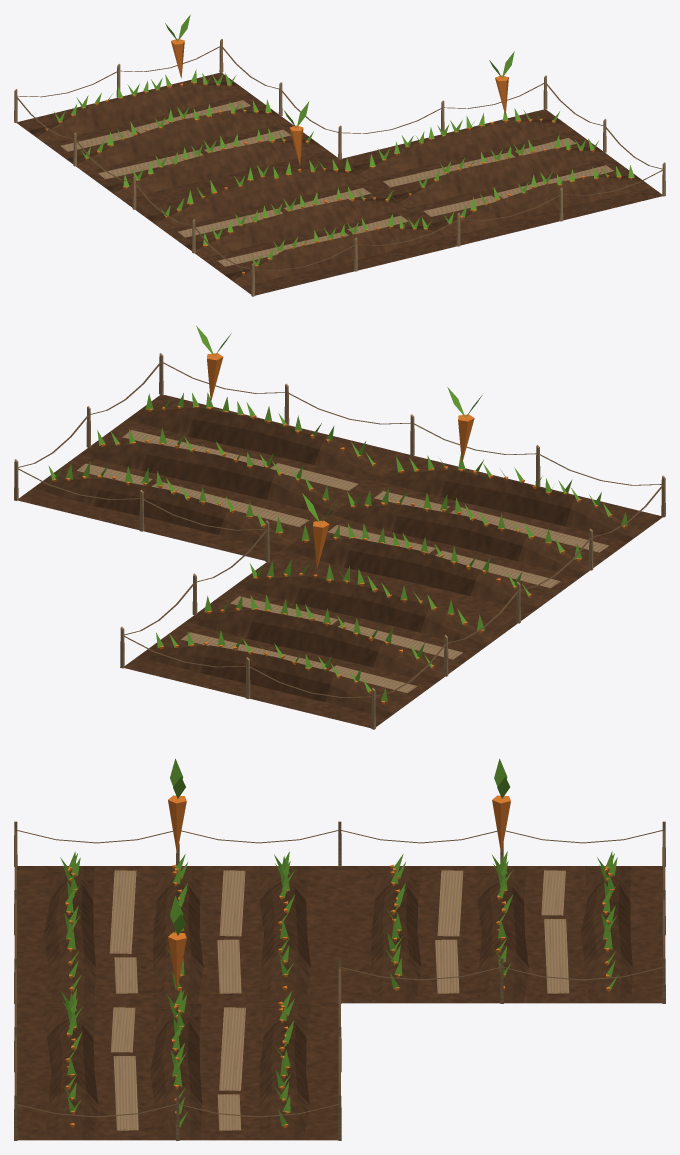
Rendered from example-L_LOD1.glb.
3 views of the same model, one above another, from view 1: azimuth 30°, elevation 25°; view 2: azimuth 150°, elevation 25°; view 3: azimuth 270°, elevation 25° (orthographic). The views are drawn at different scales.
Visible parts, largest first — view 1: sol_024_LOD1, sol_000_LOD1, sol_012_LOD1, butte_027_LOD1, butte_017_LOD1, butte_005_LOD1, butte_015_LOD1, butte_029_LOD1, butte_001_LOD1, butte_003_LOD1, butte_025_LOD1, butte_013_LOD1 (+22 smaller); view 2: sol_024_LOD1, sol_012_LOD1, sol_000_LOD1, butte_025_LOD1, butte_015_LOD1, butte_001_LOD1, butte_027_LOD1, butte_005_LOD1, butte_013_LOD1, butte_017_LOD1, butte_003_LOD1, butte_029_LOD1 (+22 smaller); view 3: sol_012_LOD1, sol_000_LOD1, sol_024_LOD1, butte_005_LOD1, butte_025_LOD1, butte_015_LOD1, butte_029_LOD1, butte_013_LOD1, butte_017_LOD1, butte_001_LOD1, butte_027_LOD1, butte_003_LOD1 (+23 smaller).
Part boxes in pixels (left/top/right/bottom): sol_024_LOD1: left=341, top=109, right=662, bottom=245; sol_000_LOD1: left=135, top=159, right=456, bottom=295; sol_012_LOD1: left=17, top=72, right=338, bottom=208; butte_027_LOD1: left=392, top=147, right=610, bottom=208; butte_017_LOD1: left=29, top=82, right=247, bottom=143; butte_005_LOD1: left=146, top=168, right=368, bottom=230; butte_015_LOD1: left=67, top=110, right=288, bottom=171; butte_029_LOD1: left=351, top=118, right=573, bottom=179; butte_001_LOD1: left=225, top=225, right=444, bottom=286; butte_003_LOD1: left=185, top=197, right=406, bottom=258; butte_025_LOD1: left=430, top=175, right=651, bottom=237; butte_013_LOD1: left=105, top=139, right=326, bottom=199; sol_024_LOD1: left=18, top=394, right=411, bottom=560; sol_012_LOD1: left=124, top=562, right=517, bottom=728; sol_000_LOD1: left=269, top=456, right=662, bottom=621; butte_025_LOD1: left=128, top=405, right=396, bottom=481; butte_015_LOD1: left=186, top=607, right=455, bottom=683; butte_001_LOD1: left=379, top=468, right=647, bottom=541; butte_027_LOD1: left=80, top=441, right=348, bottom=515; butte_005_LOD1: left=284, top=536, right=553, bottom=612; butte_013_LOD1: left=235, top=573, right=502, bottom=649; butte_017_LOD1: left=138, top=643, right=407, bottom=717; butte_003_LOD1: left=332, top=501, right=599, bottom=578; butte_029_LOD1: left=34, top=475, right=301, bottom=551; sol_012_LOD1: left=340, top=866, right=662, bottom=1003; sol_000_LOD1: left=17, top=866, right=339, bottom=1003; sol_024_LOD1: left=17, top=1003, right=338, bottom=1140; butte_005_LOD1: left=258, top=866, right=310, bottom=1002; butte_025_LOD1: left=46, top=1003, right=98, bottom=1139; butte_015_LOD1: left=476, top=866, right=528, bottom=1002; butte_029_LOD1: left=259, top=1003, right=311, bottom=1139; butte_013_LOD1: left=371, top=866, right=422, bottom=1002; butte_017_LOD1: left=580, top=866, right=632, bottom=1002; butte_001_LOD1: left=44, top=866, right=95, bottom=1002; butte_027_LOD1: left=150, top=1003, right=202, bottom=1139; butte_003_LOD1: left=153, top=866, right=205, bottom=1002.
Size of the model in its own units: 5.03 by 1.42 by 5.03.
Materials: 4 (2 with a texture image).
